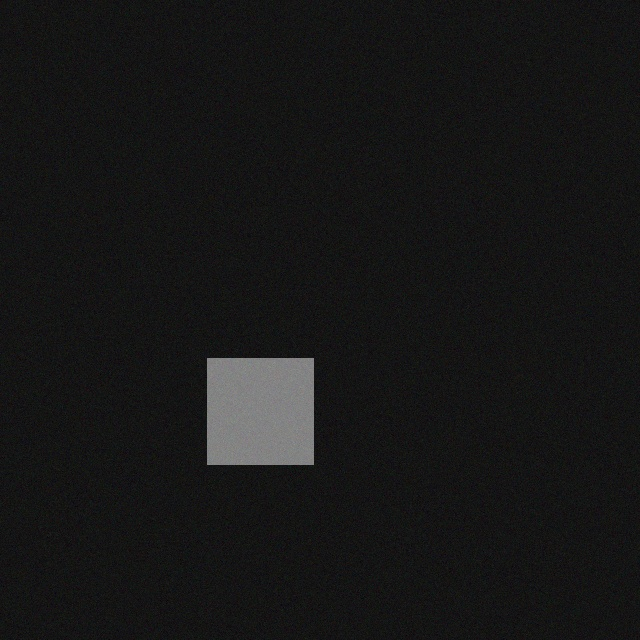square: (203, 346, 309, 452)
